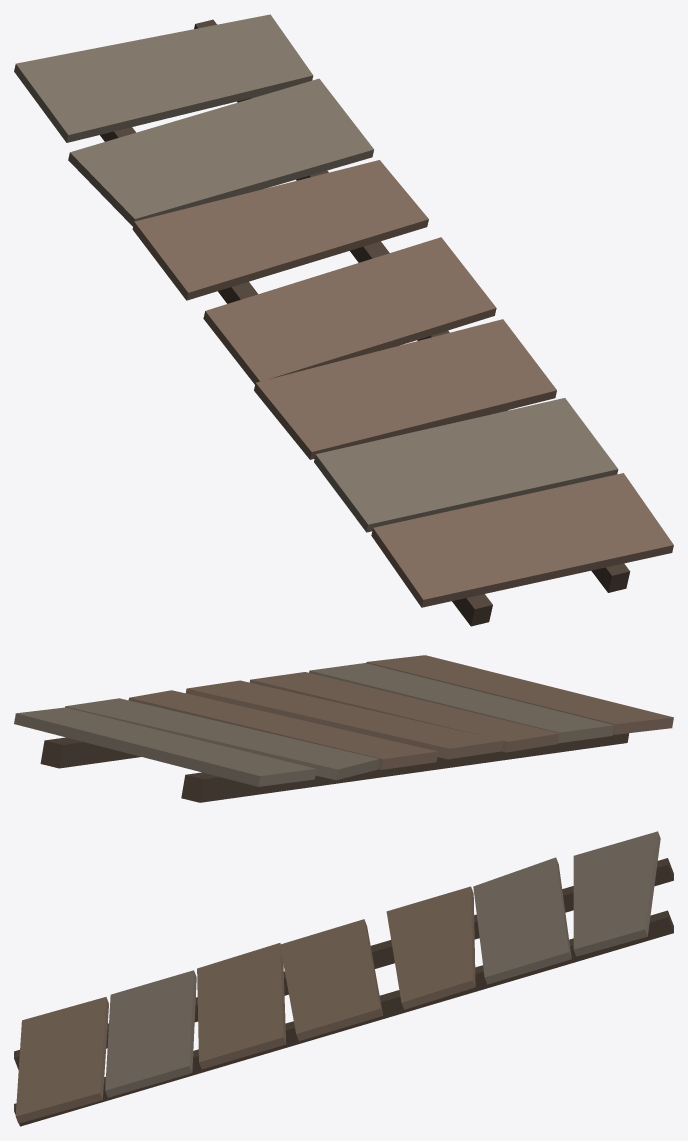
File: Mines Runway 3M V3.glb
3 renders of one model, top to bottom at view 1: azimuth 30°, elevation 25°; view 2: azimuth 150°, elevation 25°; view 3: azimuth 270°, elevation 25°, orthographic. The views are drawn at different scales.
Visible parts, largest first — view 1: Mines Runway 3M v3; view 2: Mines Runway 3M v3; view 3: Mines Runway 3M v3.
Boxes of the visible parts, x1,y1,x2,y2 form: Mines Runway 3M v3: [14, 14, 673, 626]; Mines Runway 3M v3: [14, 655, 673, 802]; Mines Runway 3M v3: [14, 831, 673, 1126].
Size of what is drawn, in the model's own units: 1.09 by 1.1 by 3.03.
1 material, 1 textured.
